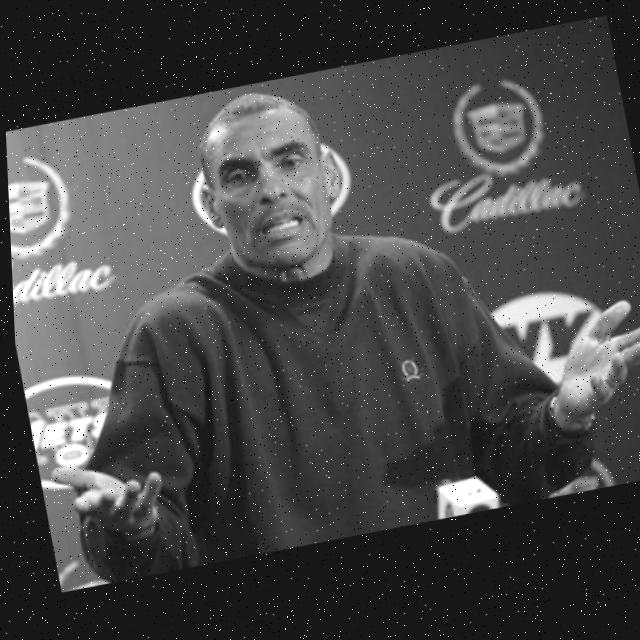face: (194, 100, 362, 279)
